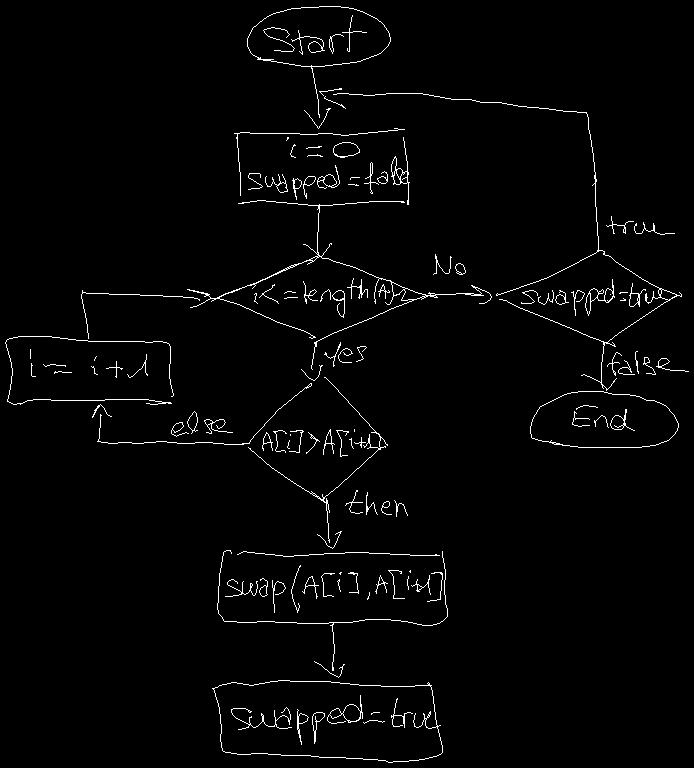arrow: (319, 88, 598, 251), (81, 289, 210, 338), (92, 404, 248, 444), (581, 341, 616, 390), (314, 622, 344, 677), (304, 65, 330, 128), (303, 204, 331, 257), (317, 498, 341, 548), (428, 285, 491, 303), (301, 341, 322, 380)
decision: (210, 255, 437, 343), (496, 250, 681, 346), (248, 377, 387, 503)
process: (212, 680, 442, 762), (217, 550, 447, 625), (234, 128, 408, 205), (5, 336, 173, 404)
terminator: (247, 6, 390, 66), (530, 391, 678, 447)
text: (231, 695, 440, 744), (225, 565, 442, 612), (248, 137, 409, 199), (252, 278, 414, 317), (521, 279, 669, 315), (263, 15, 366, 54), (30, 349, 147, 377), (262, 429, 380, 456), (607, 351, 688, 375), (345, 490, 407, 516), (572, 405, 634, 430), (171, 411, 232, 436), (606, 216, 674, 234), (324, 342, 366, 366), (433, 254, 465, 274)
